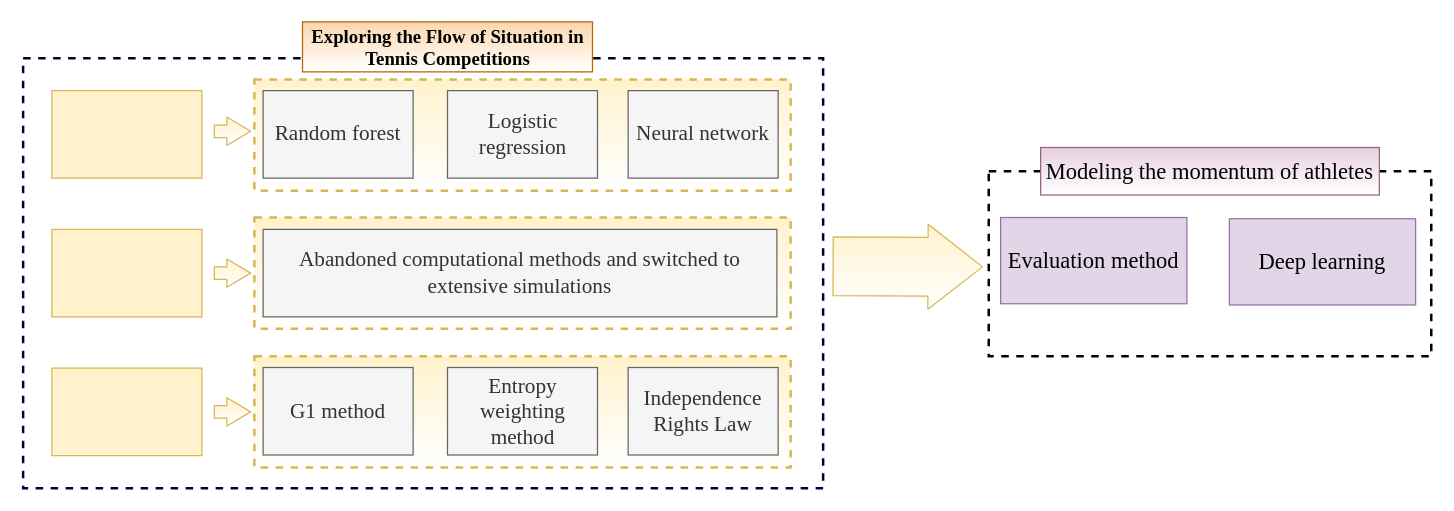
The diagram is 1454 pixels wide and 511 high, and some of its shapes have lost their labels. The shapes that lost their labels are listed below. From the top down, each one's centre as x and y in pixels, then its label:
(126,133): Modeling based on machine learning
(126,272): Monte carlo
(126,411): Evaluation based methods
